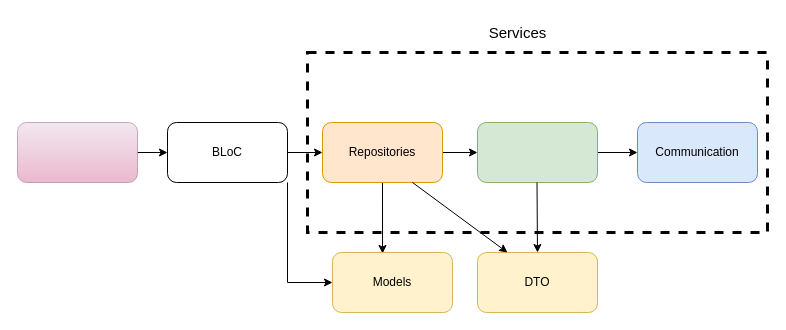
This 786x330 diagram has some shape labels left out. Here are the shapes that lost their labels. From the top down, the box of each, then its label:
(16, 122, 138, 182): Widgets
(476, 122, 598, 182): Controllers
